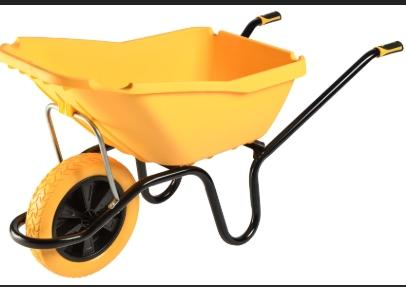BROUETTE: (0, 12, 405, 271)
